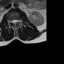CCS_normal: (13, 17, 15, 26)
LFS_normal: (18, 18, 20, 24)
LLS_normal: (16, 17, 18, 25)
RFS_normal: (9, 18, 11, 24)
RLS_normal: (11, 18, 13, 24)
